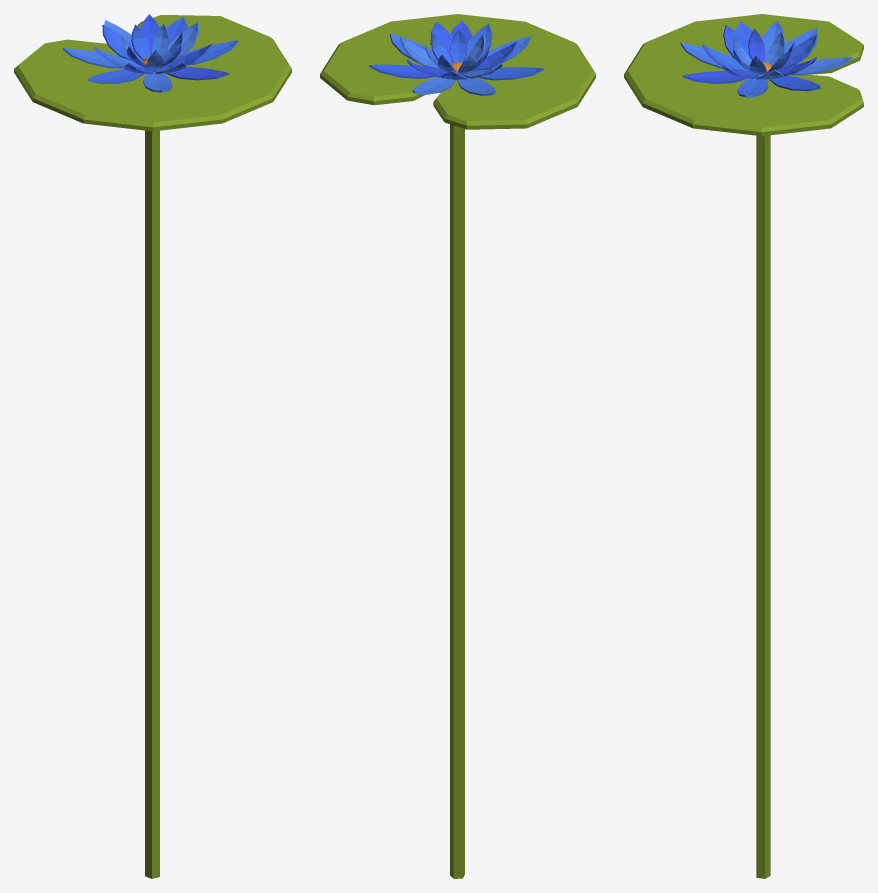
Rendered from NHP_LilyPad_LP_A2_01.fbx.
3 renders of one model, left to right at view 1: azimuth 30°, elevation 25°; view 2: azimuth 150°, elevation 25°; view 3: azimuth 270°, elevation 25°, orthographic.
Parts seen in each view (by area): view 1: NHP_LilyPad_LP_A2_01_LOD0; view 2: NHP_LilyPad_LP_A2_01_LOD0; view 3: NHP_LilyPad_LP_A2_01_LOD0.
Boxes of the visible parts, x1,y1,x2,y2 form: NHP_LilyPad_LP_A2_01_LOD0: (14,14,291,878); NHP_LilyPad_LP_A2_01_LOD0: (320,14,595,878); NHP_LilyPad_LP_A2_01_LOD0: (624,14,863,878).
Size of what is drawn, in the model's own units: 0.6254 by 2.09 by 0.5433.
